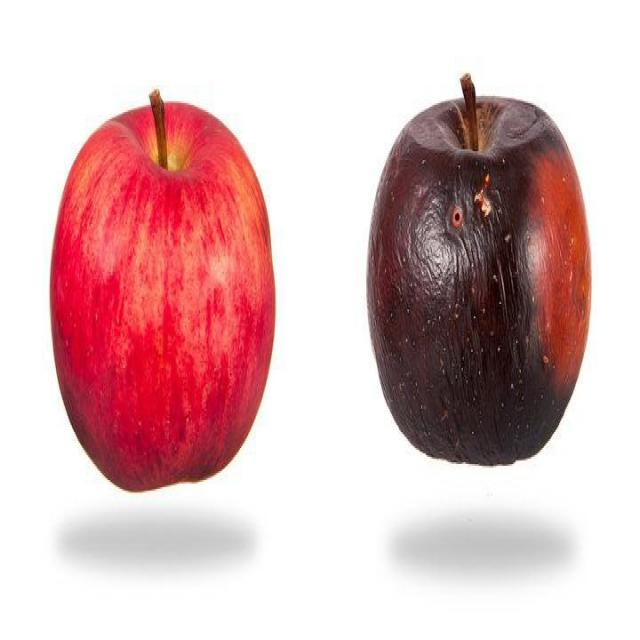fresh_apple: (48, 100, 275, 498)
rotten_apple: (367, 92, 592, 468)
